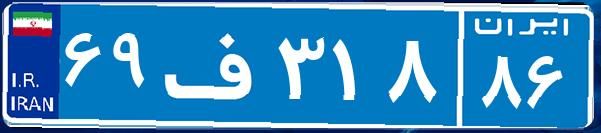1: (330, 28, 385, 110)
3: (273, 28, 330, 110)
6: (57, 26, 110, 107), (525, 38, 570, 115)
8: (385, 28, 445, 110), (475, 38, 525, 113)
9: (110, 28, 158, 105)
ف: (158, 15, 273, 115)
